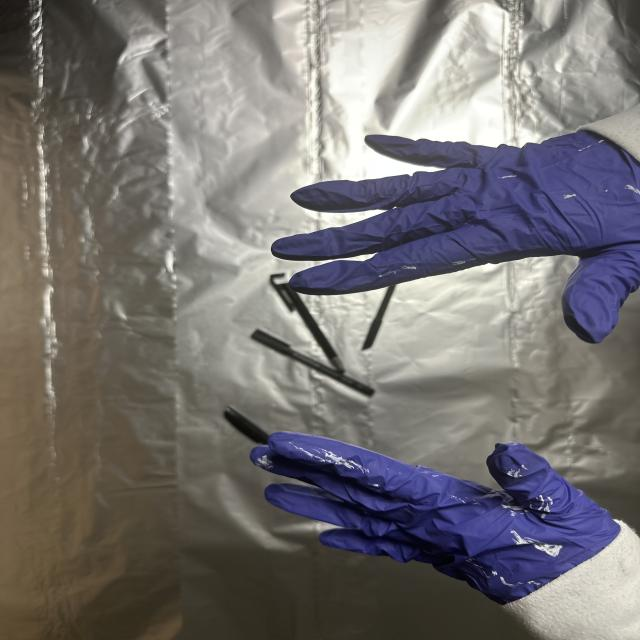gloves_contaminated: (272, 127, 640, 343), (251, 432, 621, 605)
